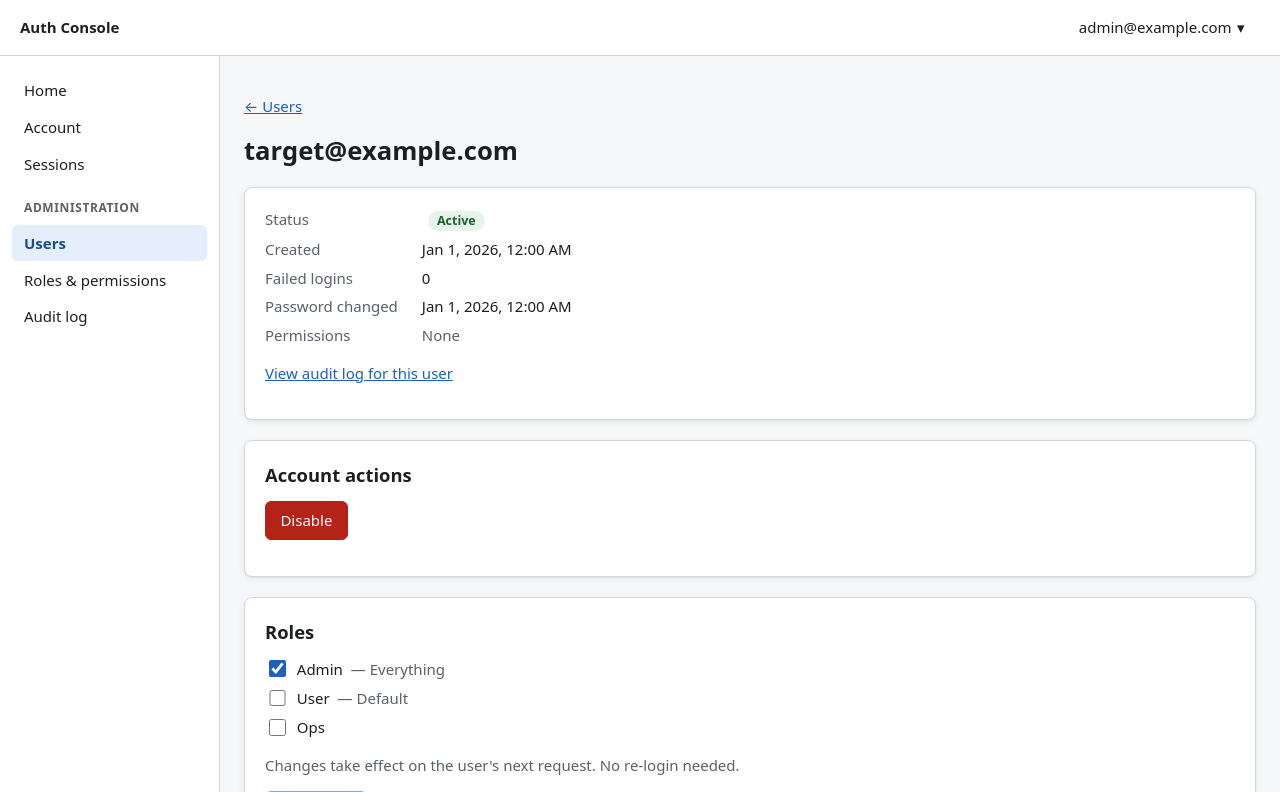
Test: user detail gating › shows the 409 title inline when disabling the last admin
The width and height of the screenshot is (1280, 792).
Click the button "Disable".
click(306, 520)  # box [265,501,348,540]
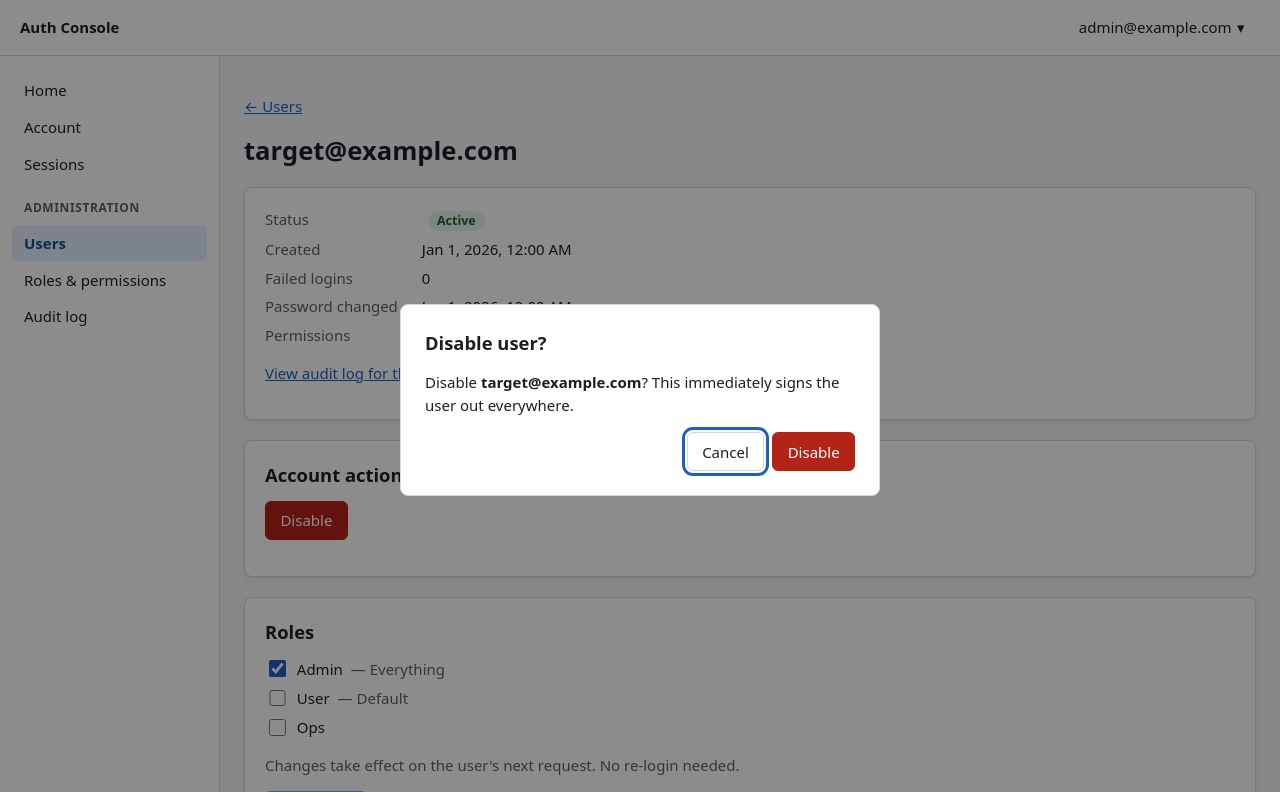
Expected: the text "immediately signs the user out everywhere" is shown, [425,372,839,415]
Click the button "Disable".
click(814, 452)  # box [772,432,855,471]
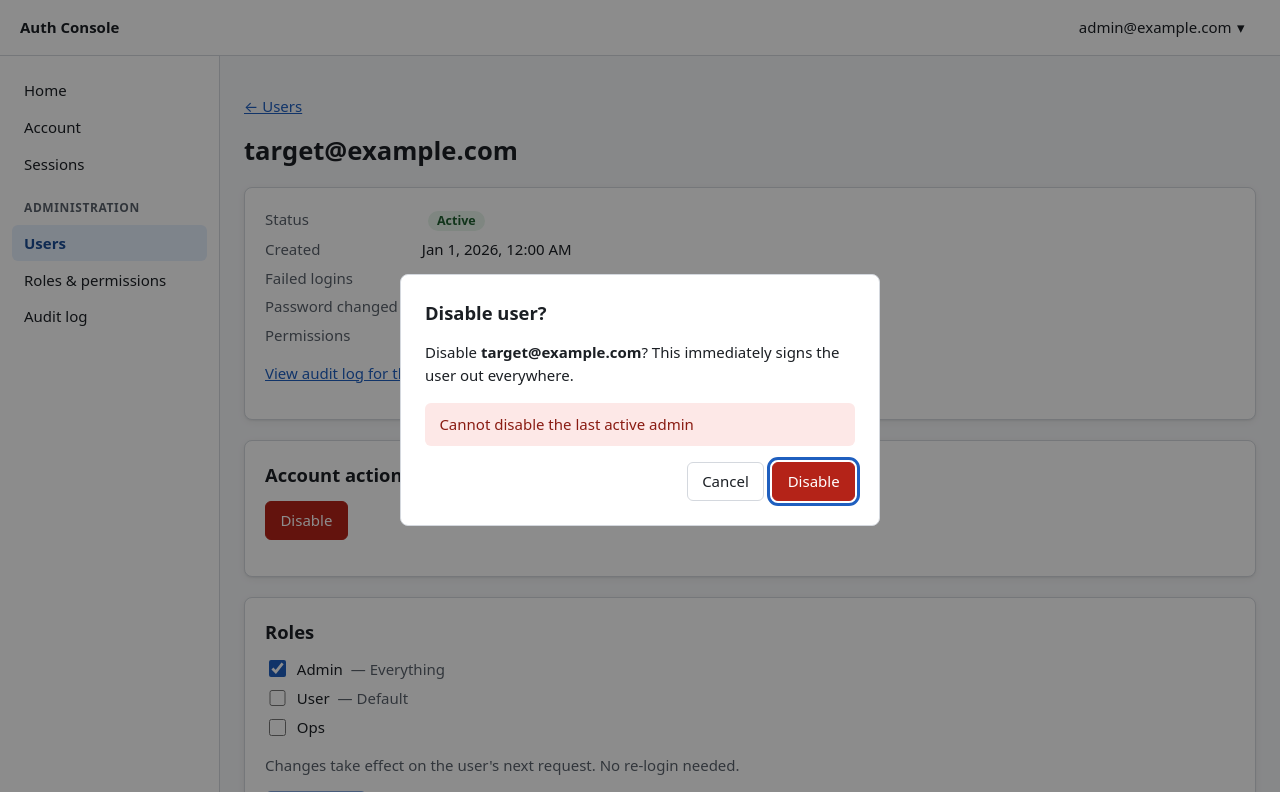
Expected: the text "Cannot disable the last active admin" is shown, [425,403,855,446]
